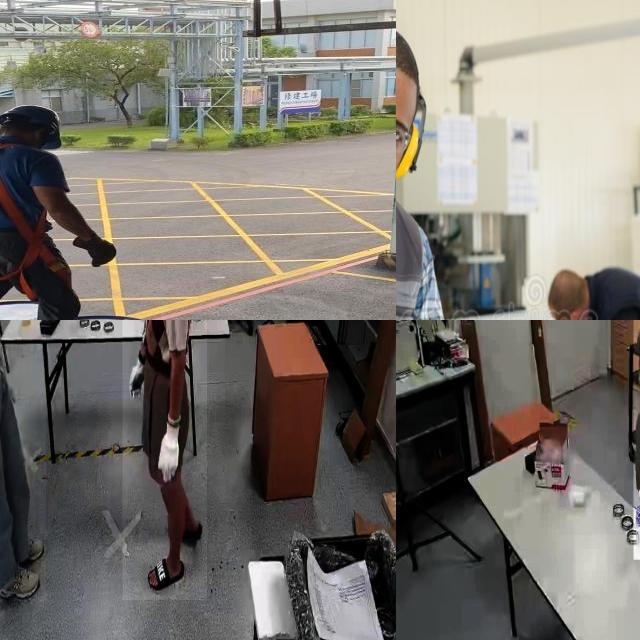Ear-protection: (396, 15, 434, 222)
Harness: (0, 145, 76, 308)
hand_glove: (152, 408, 186, 489), (129, 355, 147, 406)
person: (396, 3, 473, 320), (122, 320, 207, 601), (0, 320, 46, 602), (529, 245, 640, 320)
shoes: (0, 562, 41, 607), (4, 530, 44, 564)
